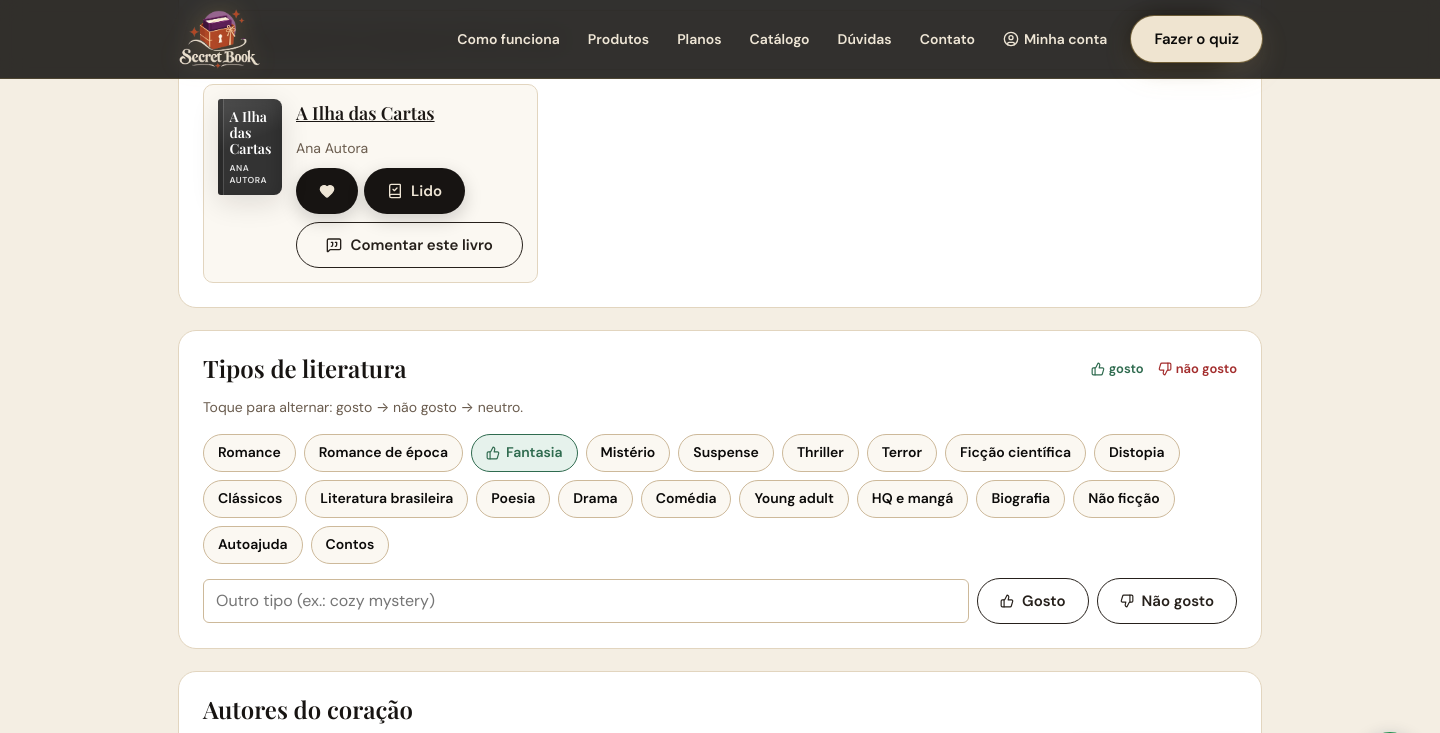
Test case: Perfil de leitor › mostra a estante e salva gêneros e autores
The image size is (1440, 733).
(page scrolled)
Expected: the link "A Ilha das Cartas" is shown, [296, 101, 435, 125]
Expected: the button with aria-label "Fantasia: gosto" is shown, [471, 434, 578, 472]
// Terror: neutro → gosto → não gosto
Click the button with aria-label "Terror: neutro" at (902, 452), box [867, 434, 937, 472]
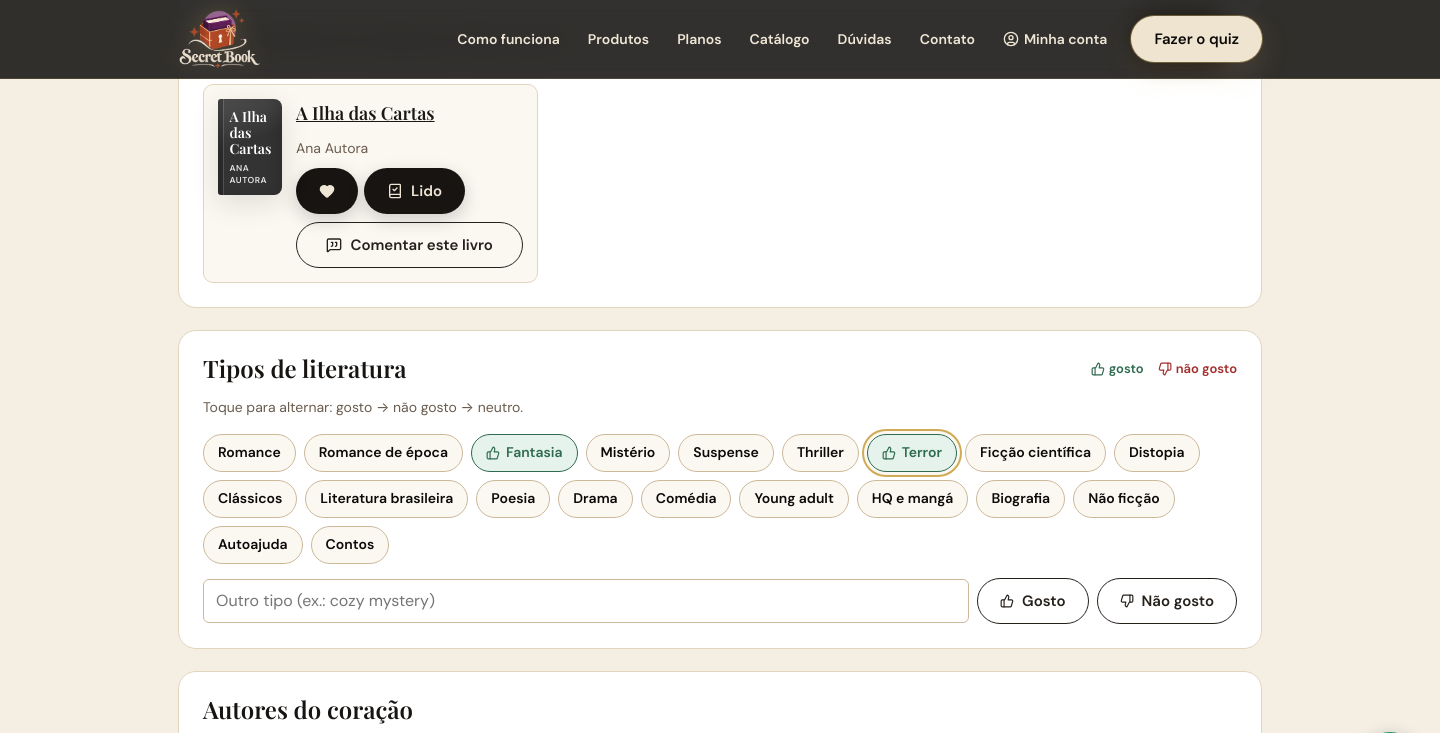
Click the button with aria-label "Terror: gosto" at (912, 452), box [867, 434, 957, 472]
(page scrolled)
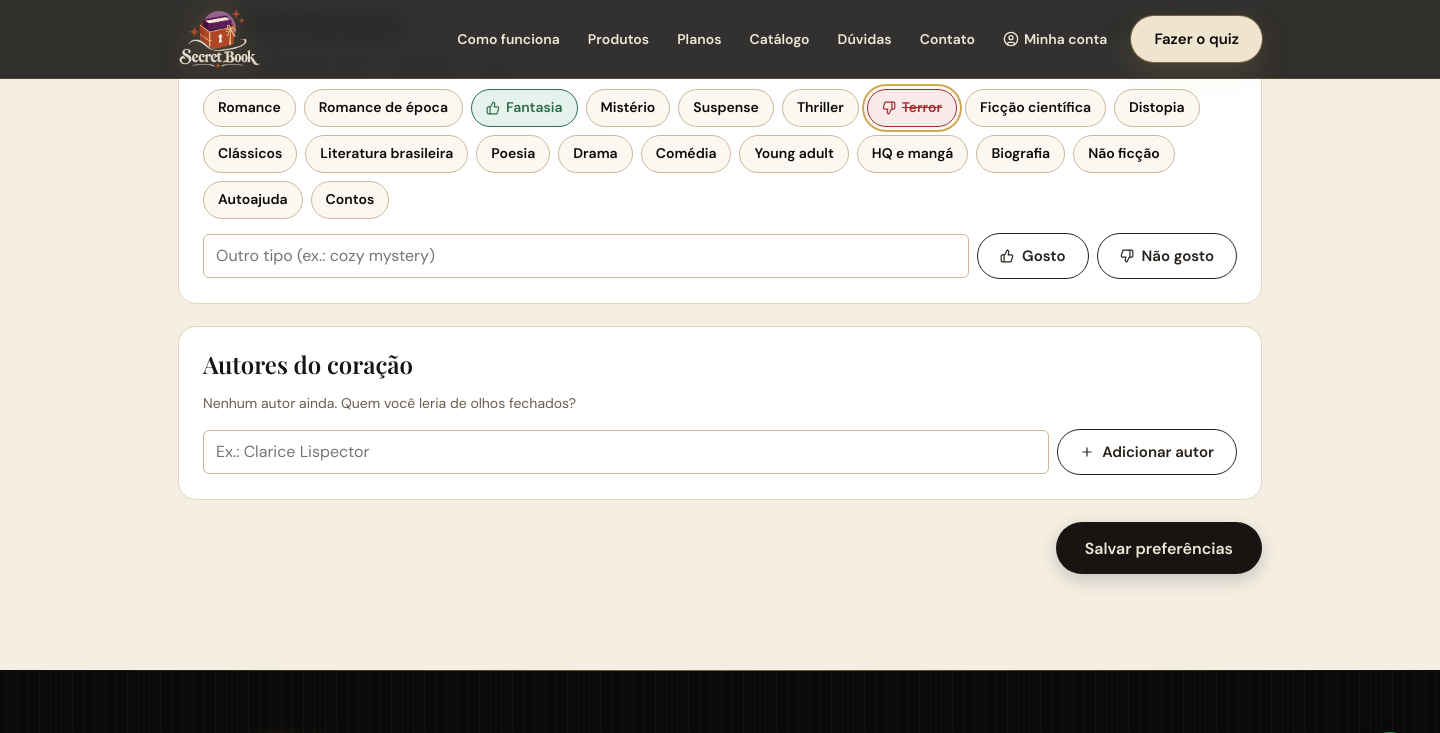
Result: the button with aria-label "Terror: não gosto" is shown at [867, 88, 957, 126]
Type "Clarice Lispector" into the field named "Nome do autor" at (626, 452), box [203, 430, 1049, 474]
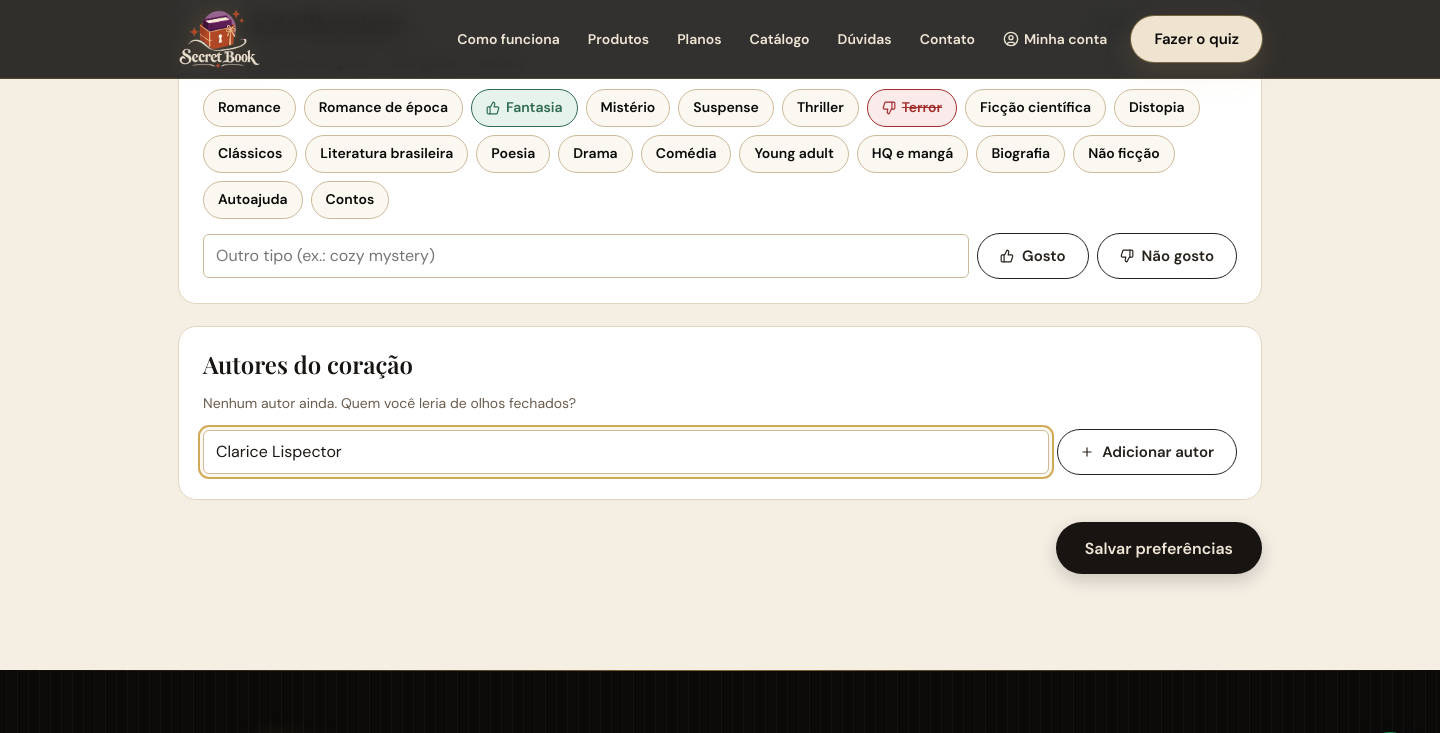
Click the button "Adicionar autor" at (1147, 452), box [1057, 429, 1237, 475]
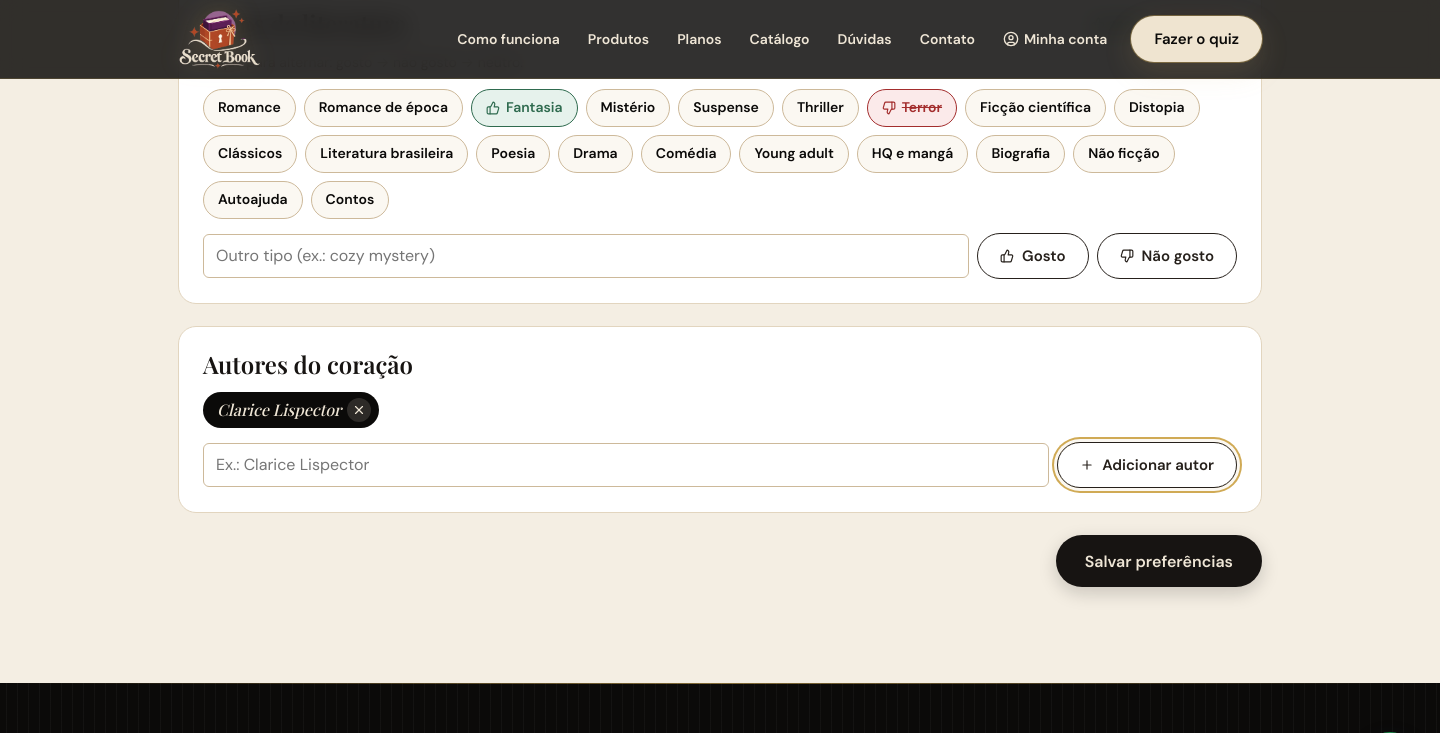
Click the button "Salvar preferências" at (1159, 561), box [1056, 535, 1262, 587]
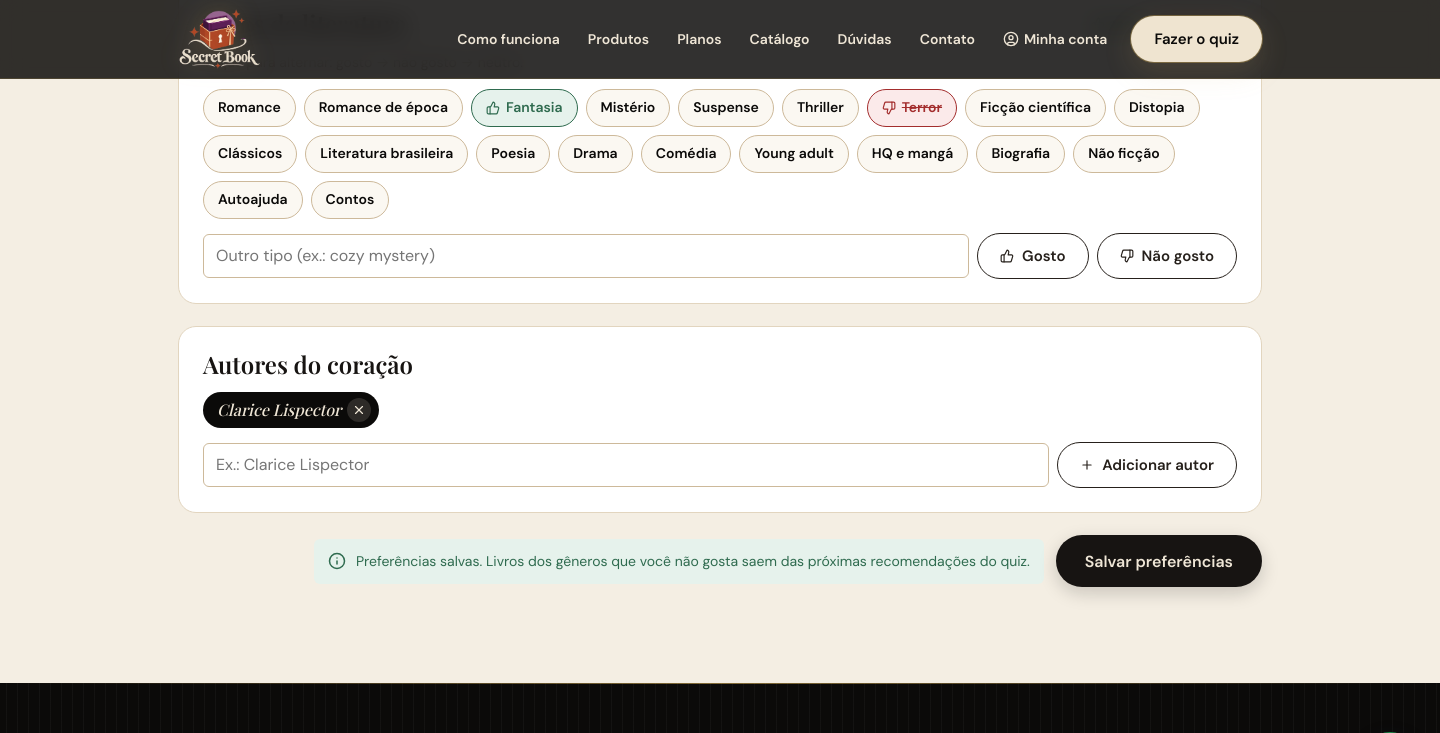
Result: the text "Preferências salvas" is shown at [356, 552, 1030, 570]
